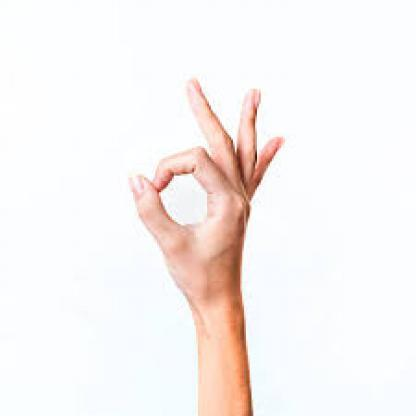ok: (124, 69, 286, 316)
